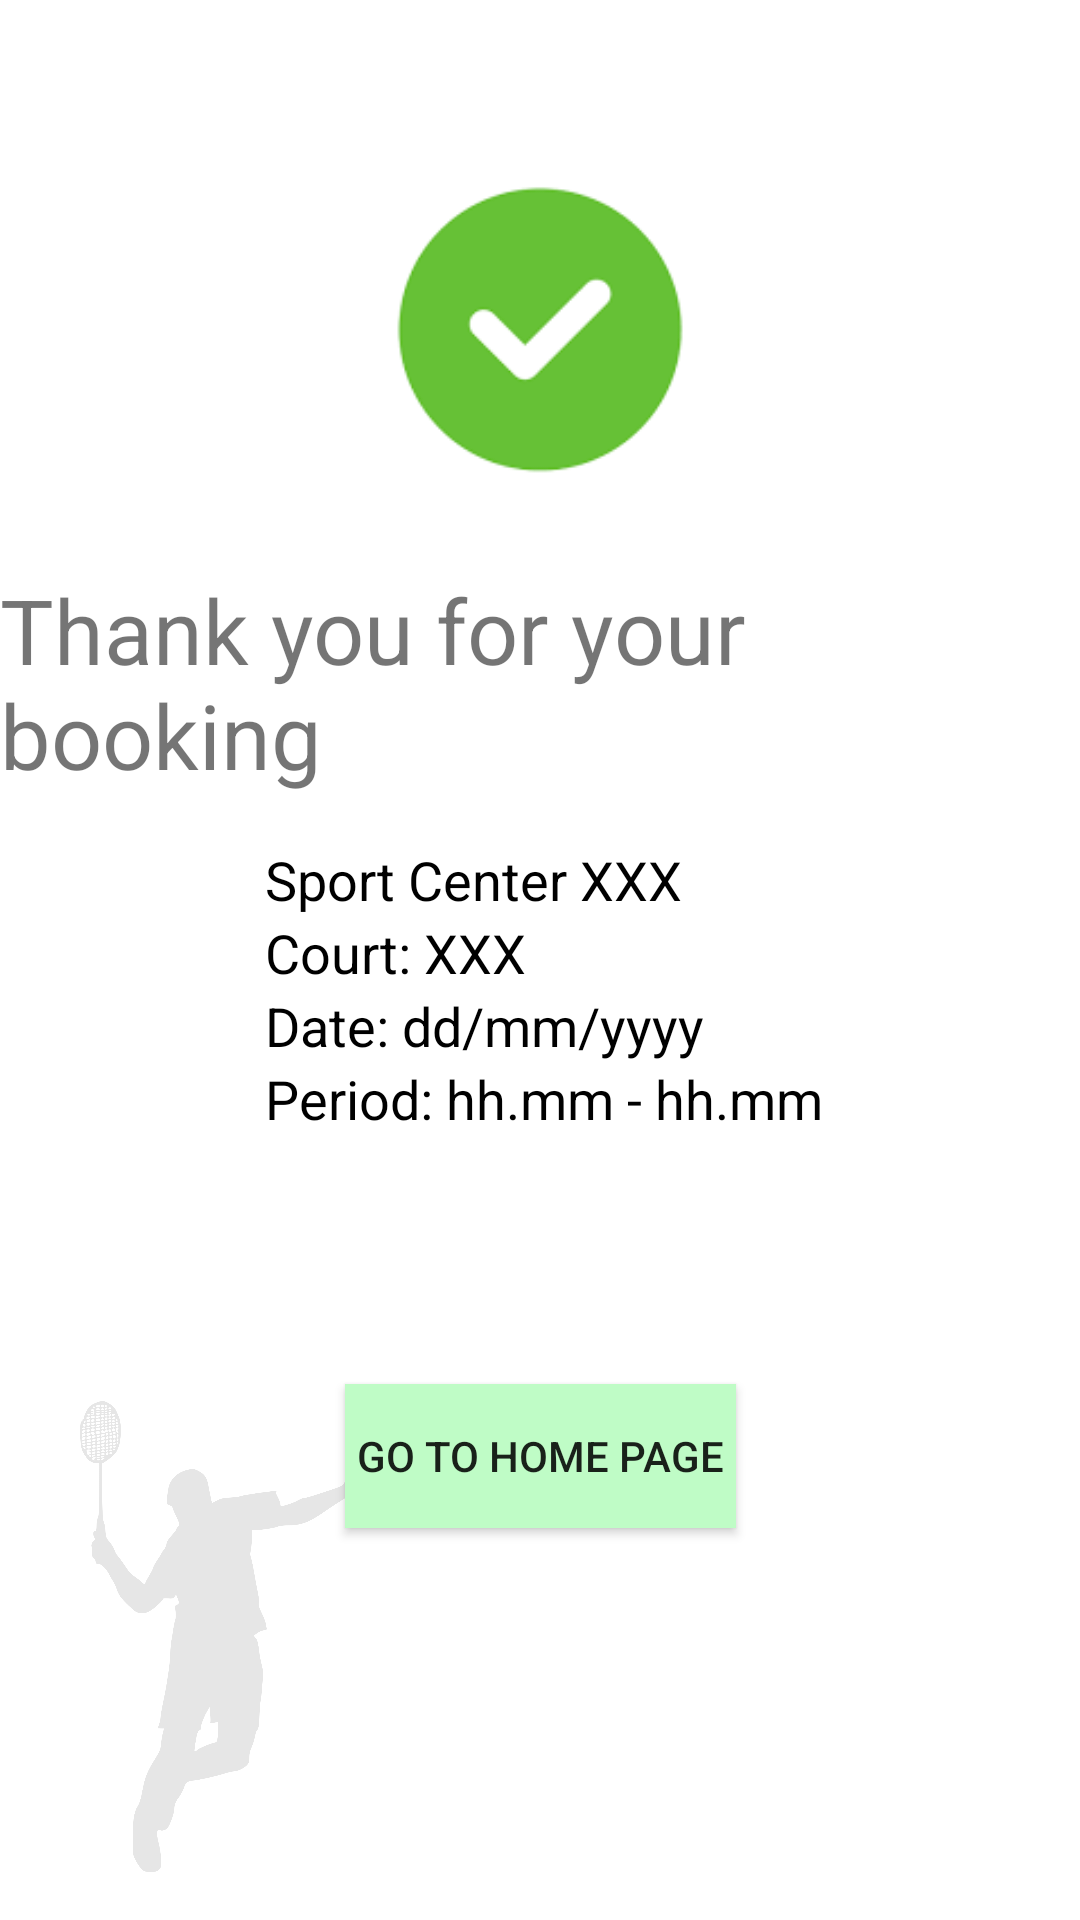

Named icons in this screenshot (1080 x 1920) and their bounding boxes, (x1, y1, x2, y2):
tick: (397, 187, 683, 472)
